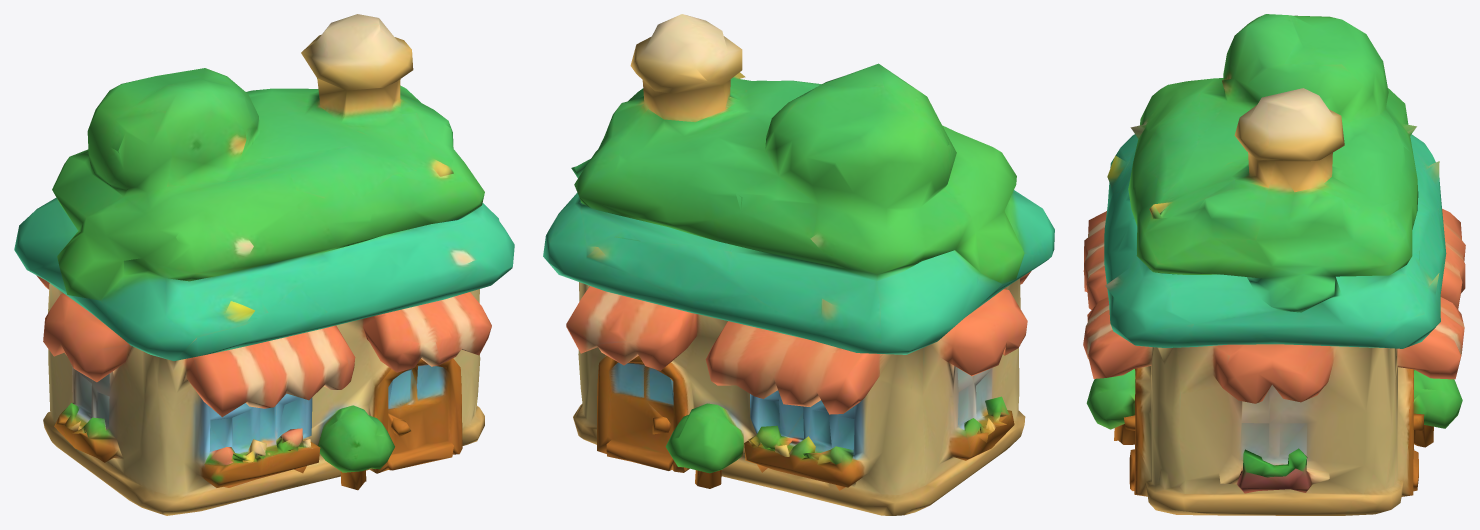
The model's file is shop_2.glb.
3 renders of one model, left to right at view 1: azimuth 30°, elevation 25°; view 2: azimuth 150°, elevation 25°; view 3: azimuth 270°, elevation 25°, orthographic. The views are drawn at different scales.
Parts seen in each view (by area): view 1: tripo_node_0c08877f-ecca-46af-a11f-cda0ff89b4e1; view 2: tripo_node_0c08877f-ecca-46af-a11f-cda0ff89b4e1; view 3: tripo_node_0c08877f-ecca-46af-a11f-cda0ff89b4e1.
Part boxes in pixels (x1=…): tripo_node_0c08877f-ecca-46af-a11f-cda0ff89b4e1: x1=14, y1=14, x2=514, y2=515; tripo_node_0c08877f-ecca-46af-a11f-cda0ff89b4e1: x1=543, y1=14, x2=1054, y2=515; tripo_node_0c08877f-ecca-46af-a11f-cda0ff89b4e1: x1=1083, y1=14, x2=1465, y2=515.
Bounding box in the file's own units: 1 × 0.9034 × 0.8031.
Materials: 1 (1 with a texture image).
